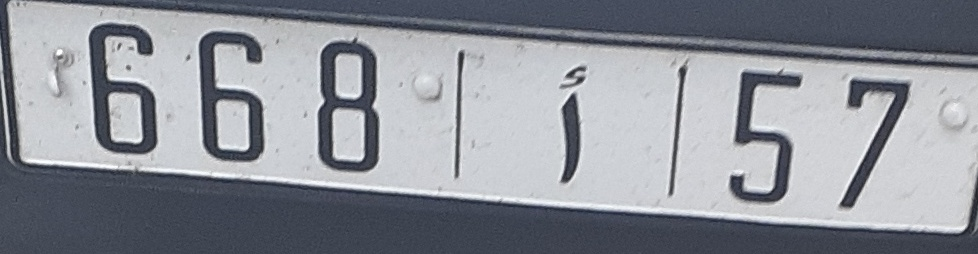5: (725, 65, 808, 208)
6: (189, 26, 274, 164), (85, 18, 166, 156)
7: (837, 73, 917, 214)
8: (309, 35, 384, 174)
a: (550, 61, 595, 193)
